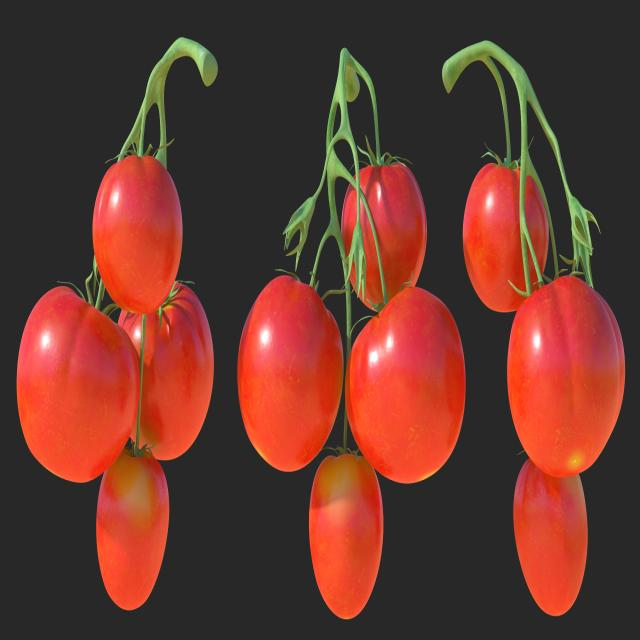Tomato: (15, 281, 145, 485), (504, 274, 628, 481), (343, 280, 468, 484), (235, 266, 346, 476), (91, 151, 185, 315), (307, 437, 386, 625), (462, 155, 548, 314), (95, 442, 172, 614), (512, 459, 590, 622)
